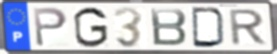3: (112, 6, 147, 50)
B: (149, 7, 189, 48)
D: (190, 6, 228, 49)
G: (71, 6, 110, 49)
P: (32, 7, 70, 48)
R: (229, 8, 269, 47)
